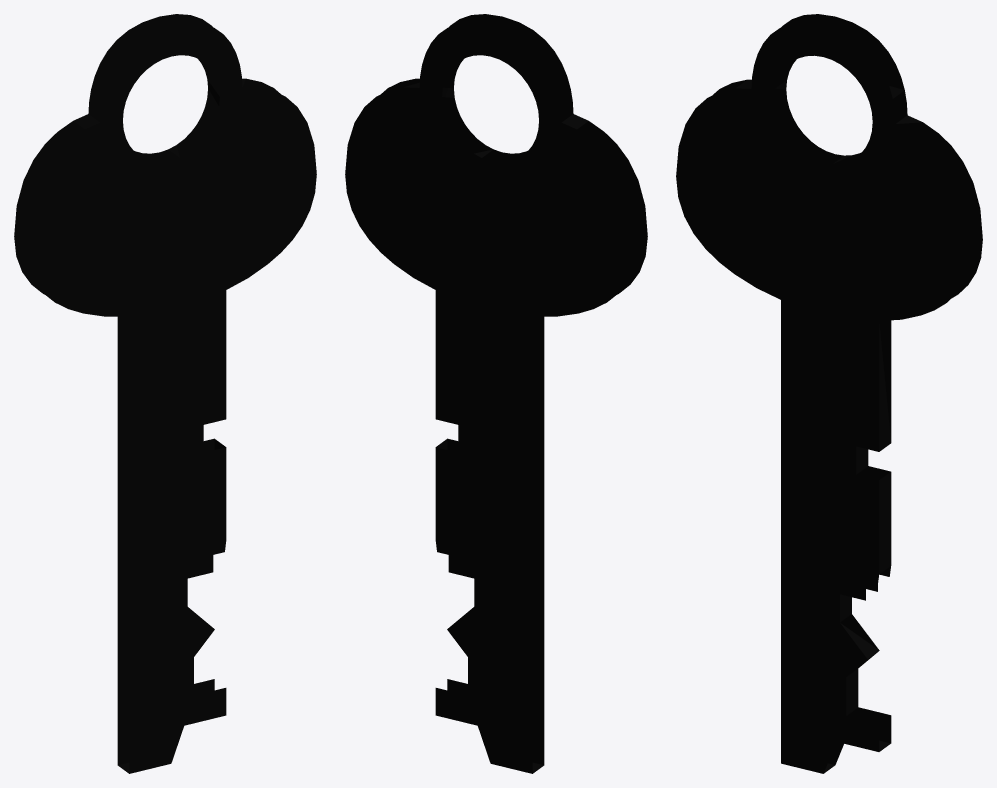
The model's file is key.fbx.
The picture shows the model from 3 angles, left to right: view 1: azimuth 30°, elevation 25°; view 2: azimuth 150°, elevation 25°; view 3: azimuth 330°, elevation 25°; orthographic projection.
Parts seen in each view (by area): view 1: keys_vintage_set; view 2: keys_vintage_set; view 3: keys_vintage_set.
Part boxes in pixels (x1,y1,x2,y2): keys_vintage_set: (14,14,316,773); keys_vintage_set: (345,14,647,773); keys_vintage_set: (676,14,982,773).
Size of the model in its own units: 4806 by 11660 by 338.
